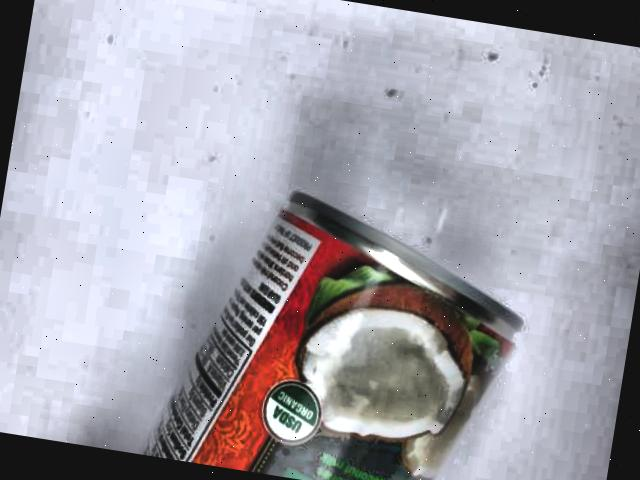Almennt: (121, 159, 542, 480)
